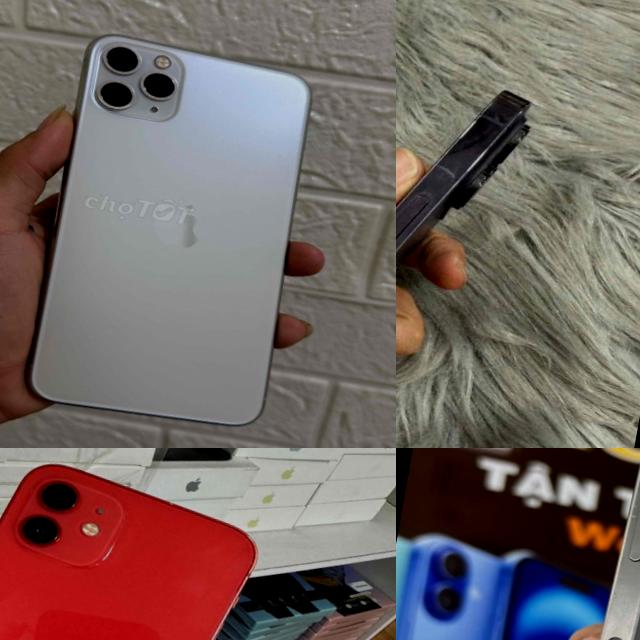scratch: (88, 38, 184, 122)
